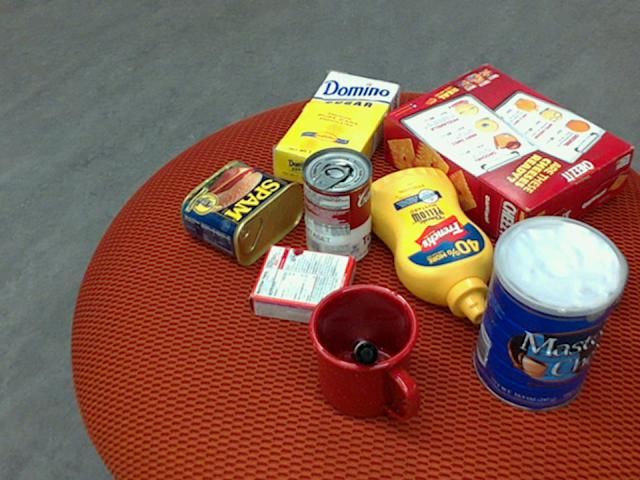cracker_box: (382, 63, 632, 253)
gelatin_box: (245, 244, 351, 331)
large_marker: (350, 338, 377, 366)
master_chef_can: (471, 217, 626, 412)
mug: (305, 284, 417, 420)
mustard_bottle: (360, 167, 492, 324)
potted_meat_can: (179, 159, 303, 265)
sugar_box: (272, 70, 399, 193)
tomato_soup_can: (301, 144, 371, 265)
tuna_fish_can: (533, 232, 627, 317)
